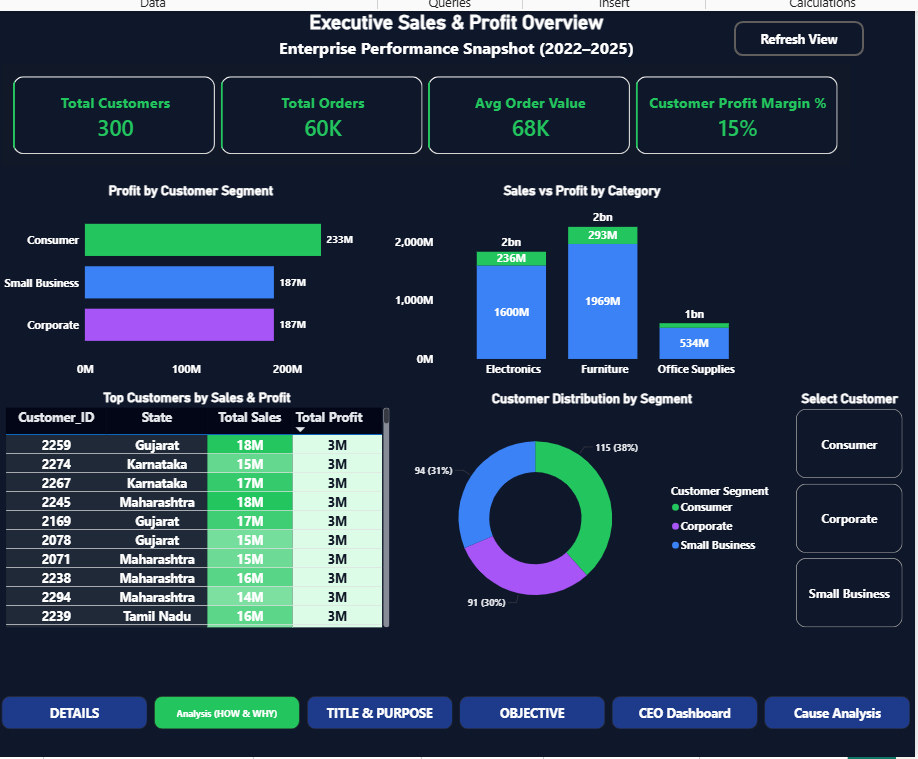

What the dashboard file says about the page in this screenshot:
{"tool":"powerbi","page":{"name":"Analysis (HOW & WHY)","canvas":[1350,1100],"ordinal":1},"visuals":[{"type":"textbox","title":"Executive Sales & Profit Overview","box":[0,0,1349.2,75.6],"z":0},{"type":"cardVisual","fields":{"Data":["Customer_Table.Total Customers","Customer_Table.Total Orders","Customer_Table.Avg Order Value","Customer_Table.Customer Profit Margin %"]},"box":[3.7,79.3,1251.5,149.3],"z":1000},{"type":"clusteredBarChart","title":"Profit by Customer Segment","fields":{"Y":["Sales_Fact_Table.Total Profit"],"Category":["Customer_Table.Customer_Segment"]},"box":[1.8,254.4,562.2,294.9],"z":2000},{"type":"tableEx","title":"Top Customers by Sales & Profit","fields":{"Values":["Customer_Table.Customer_ID","Customer_Table.State","Sales_Fact_Table.Total Sales","Sales_Fact_Table.Total Profit"]},"box":[3.7,558.5,576.9,355.7],"z":3000},{"type":"donutChart","title":"Customer Distribution by Segment","fields":{"Category":["Customer_Table.Customer_Segment"],"Y":["Customer_Table.Total Customers"]},"box":[586.1,560.3,576.9,353.9],"z":4000},{"type":"advancedSlicerVisual","title":"Select Customer","fields":{"Values":["Customer_Table.Customer_Segment"]},"box":[1170.4,560.3,167.7,353.9],"z":6000},{"type":"actionButton","box":[1083.8,14.7,191.7,51.6],"z":7000},{"type":"pageNavigator","box":[3.7,1010.1,1345.5,49.8],"z":8000},{"type":"columnChart","title":"Sales vs Profit by Category","fields":{"Category":["Product_Table.Category"],"Y":["Sum(Sales_Fact_Table.Sales_Amount)","Sales_Fact_Table.Total Profit"]},"box":[578.8,254.4,562.2,294.9],"z":9000}]}

Visuals, with their boxes on the page's 1350x1100 design canvas (x1, y1, x2, y2). These are canvas units, not pixel positions in the 918x759 screenshot, which may show the page scaled, cropped or inside an application window:
"Executive Sales & Profit Overview" textbox: <bbox>0, 0, 1349, 76</bbox>
cardVisual - Customer_Table.Total Customers x Customer_Table.Total Orders: <bbox>4, 79, 1255, 229</bbox>
"Profit by Customer Segment" clusteredBarChart: <bbox>2, 254, 564, 549</bbox>
"Top Customers by Sales & Profit" tableEx: <bbox>4, 558, 581, 914</bbox>
"Customer Distribution by Segment" donutChart: <bbox>586, 560, 1163, 914</bbox>
"Select Customer" advancedSlicerVisual: <bbox>1170, 560, 1338, 914</bbox>
actionButton: <bbox>1084, 15, 1276, 66</bbox>
pageNavigator: <bbox>4, 1010, 1349, 1060</bbox>
"Sales vs Profit by Category" columnChart: <bbox>579, 254, 1141, 549</bbox>
